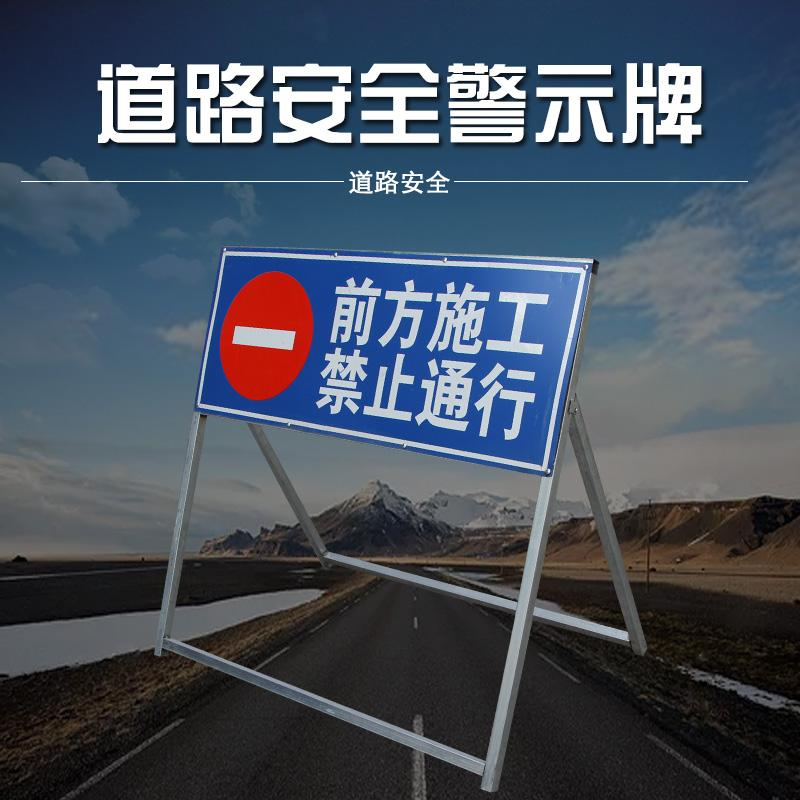sign: (144, 239, 710, 792)
